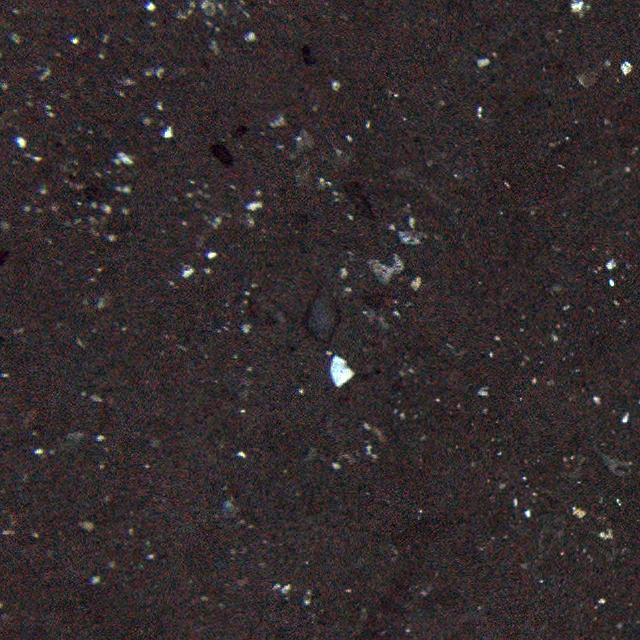whelk: (306, 284, 340, 348)
